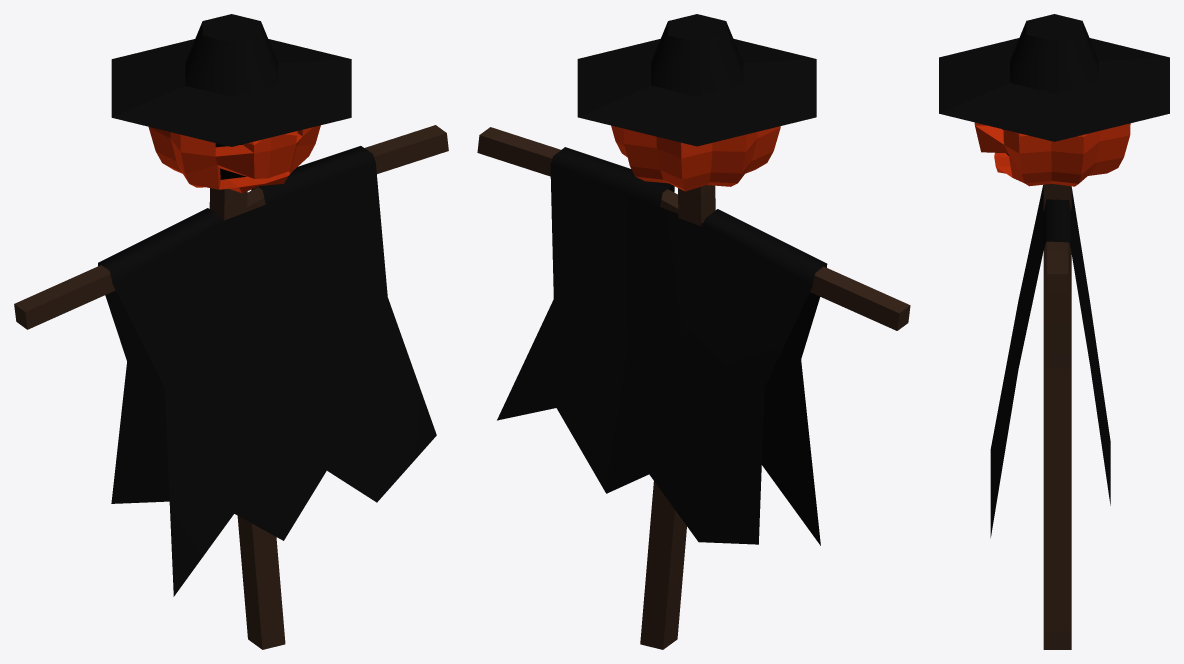
The model's file is Pumpkin_Jack.FBX.
3 views of the same model, side by side, from view 1: azimuth 30°, elevation 25°; view 2: azimuth 150°, elevation 25°; view 3: azimuth 270°, elevation 25° (orthographic). The views are drawn at different scales.
Visible parts, largest first — view 1: Pumpkin5; view 2: Pumpkin5; view 3: Pumpkin5.
Part boxes in pixels (x1,y1,x2,y2): Pumpkin5: (14, 14, 448, 649); Pumpkin5: (477, 14, 910, 649); Pumpkin5: (939, 14, 1169, 649).
Bounding box in the file's own units: 20.61 × 29 × 10.11.
